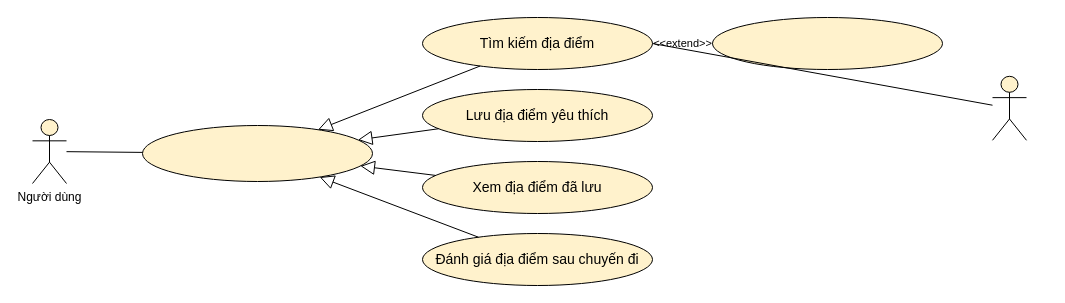
The diagram is 1065 pixels wide and 303 high, and some of its shapes have lost their labels. Each missing label, with the centre of its shape:
"Google Places" goes at point (1009, 107).
"Khám phá và đánh giá địa điểm" goes at point (257, 153).
"Xem địa điểm trên bản đồ" goes at point (827, 43).
